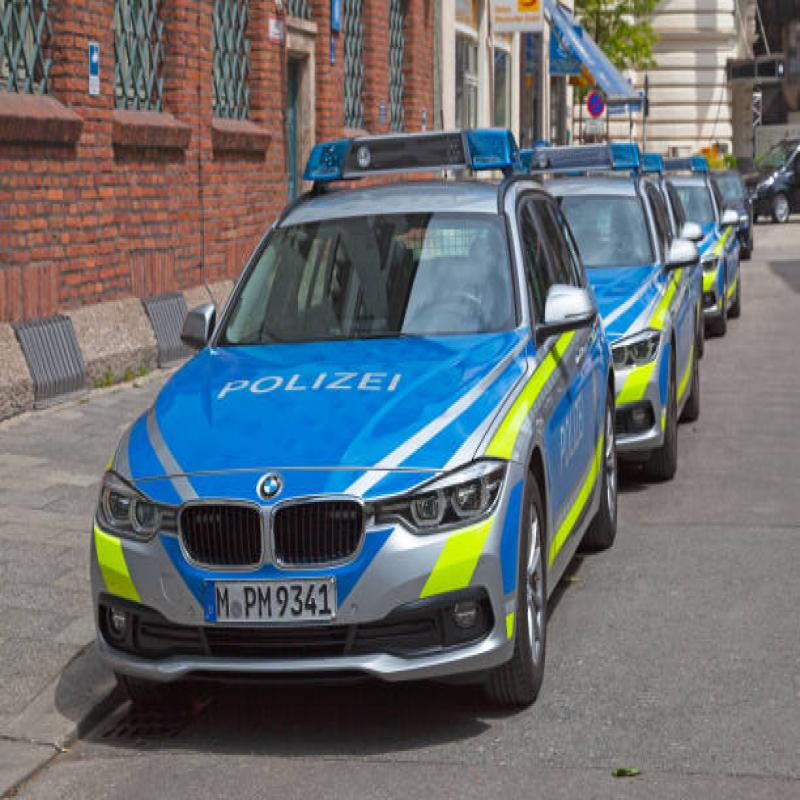AmbulanceSiren: (292, 95, 530, 190), (508, 133, 649, 179)
